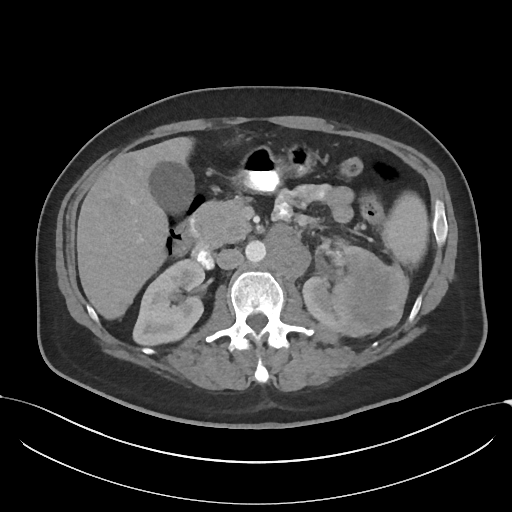Lesion: (331, 256, 410, 342)
